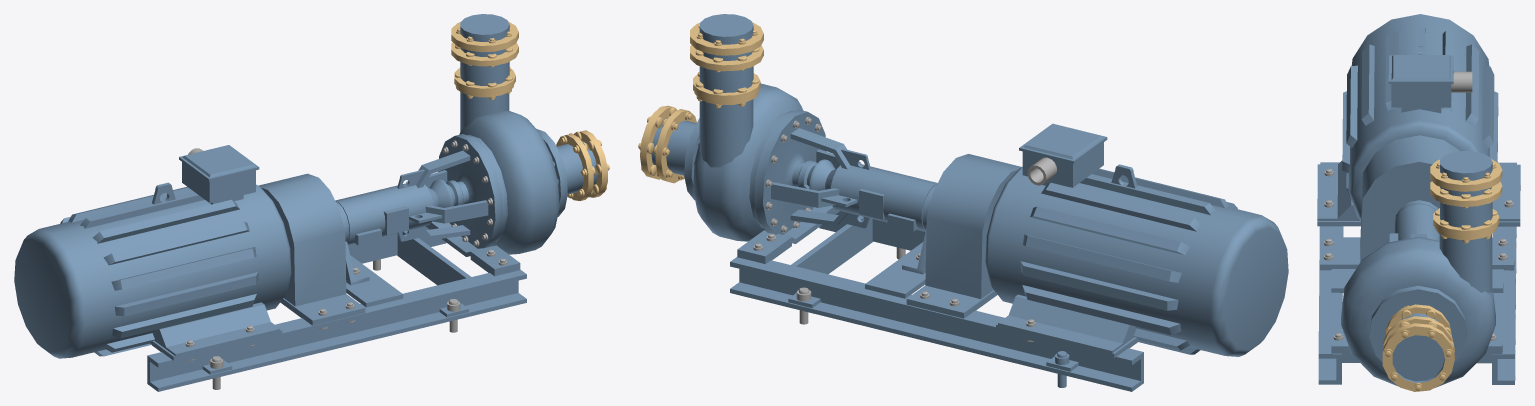
File: Centrifuge.glb
3 renders of one model, left to right at view 1: azimuth 30°, elevation 25°; view 2: azimuth 150°, elevation 25°; view 3: azimuth 270°, elevation 25°, orthographic. The views are drawn at different scales.
Visible parts, largest first — view 1: Centrifugal_Pump_Mat_0, Centrifugal_Pump_Mat8_0, Centrifugal_Pump_Mat2_0; view 2: Centrifugal_Pump_Mat_0, Centrifugal_Pump_Mat8_0, Centrifugal_Pump_Mat2_0; view 3: Centrifugal_Pump_Mat_0, Centrifugal_Pump_Mat8_0, Centrifugal_Pump_Mat2_0.
Boxes of the visible parts, x1,y1,x2,y2 form: Centrifugal_Pump_Mat_0: [14, 14, 597, 391]; Centrifugal_Pump_Mat8_0: [451, 21, 609, 200]; Centrifugal_Pump_Mat2_0: [185, 140, 507, 389]; Centrifugal_Pump_Mat_0: [651, 14, 1288, 391]; Centrifugal_Pump_Mat8_0: [638, 22, 763, 183]; Centrifugal_Pump_Mat2_0: [753, 117, 1056, 341]; Centrifugal_Pump_Mat_0: [1317, 14, 1520, 387]; Centrifugal_Pump_Mat8_0: [1382, 159, 1502, 391]; Centrifugal_Pump_Mat2_0: [1323, 71, 1513, 355].
Size of the model in its own units: 95.95 by 39.3 by 28.69.
